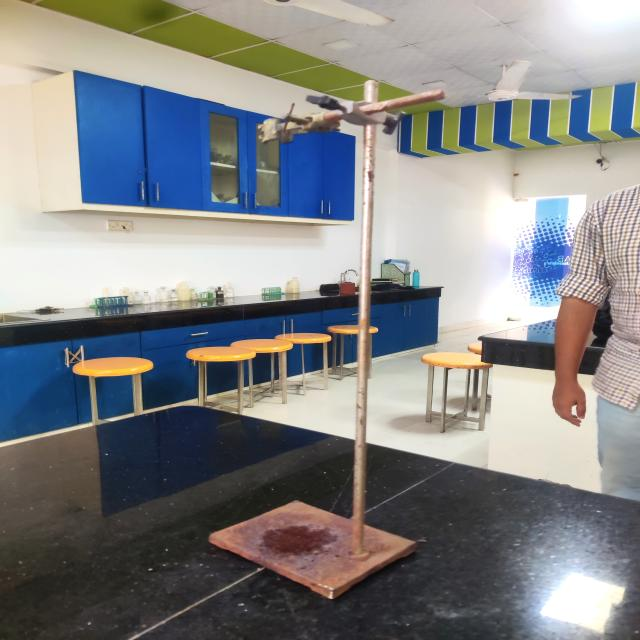Burette_Stands: (190, 47, 459, 628)
